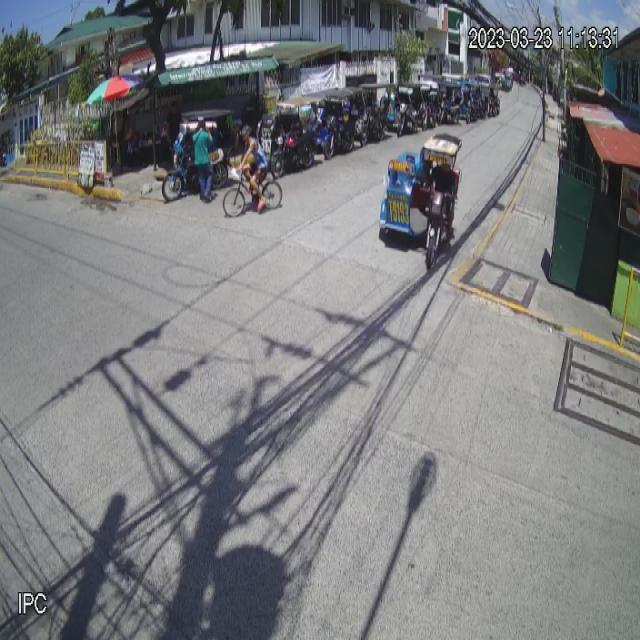Tricycle: (378, 134, 463, 271)
